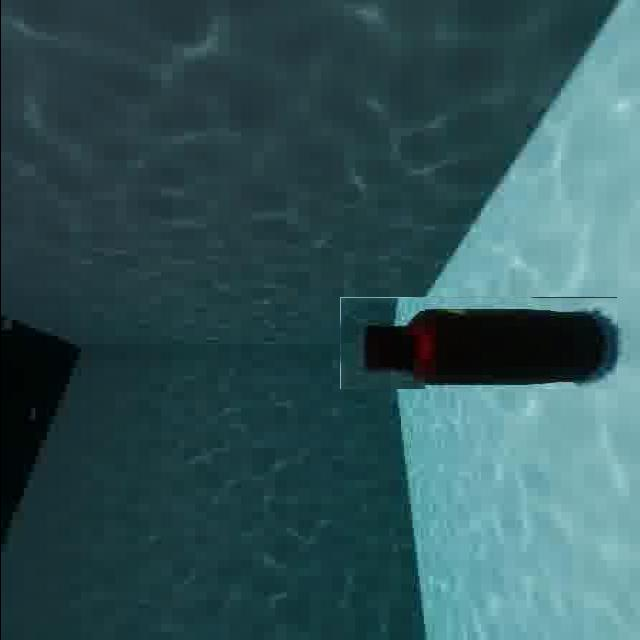Cylinder: (339, 297, 616, 389)
